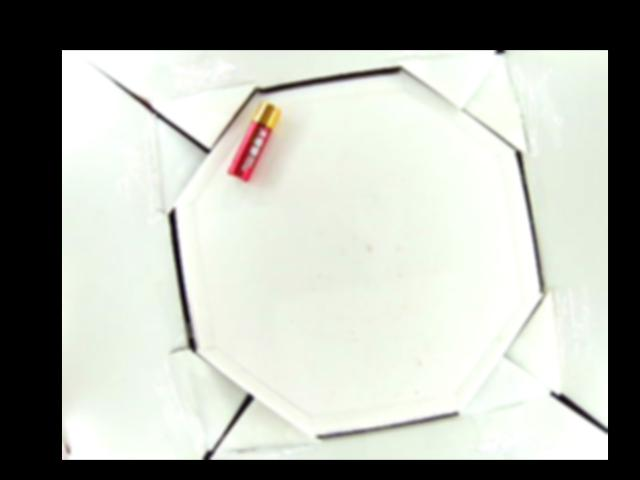Battery: (227, 101, 282, 184)
